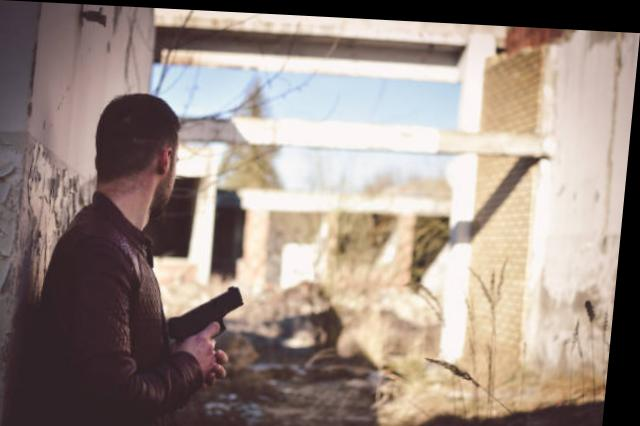other: (32, 89, 253, 424)
